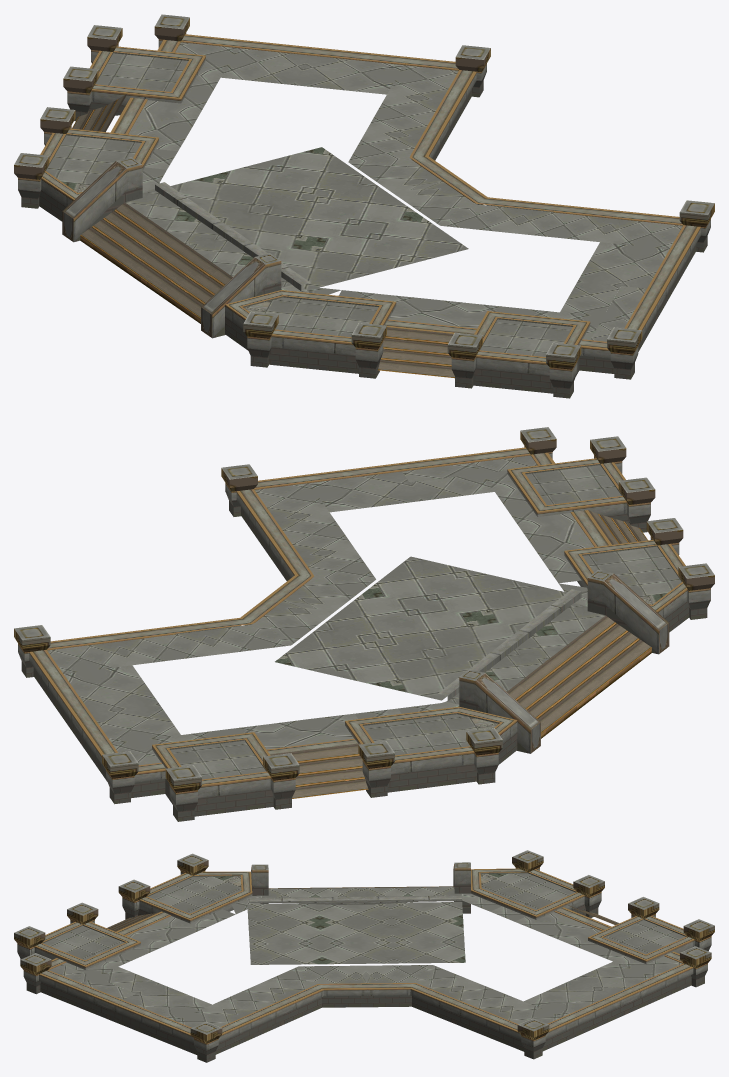
File: Yland1_jz_12 Yland1.FBX
3 renders of one model, top to bottom at view 1: azimuth 30°, elevation 25°; view 2: azimuth 150°, elevation 25°; view 3: azimuth 270°, elevation 25°, orthographic. The views are drawn at different scales.
Parts seen in each view (by area): view 1: Yland1_jz_12 Yland1; view 2: Yland1_jz_12 Yland1; view 3: Yland1_jz_12 Yland1.
Part boxes in pixels (x1,y1,x2,y2): Yland1_jz_12 Yland1: (14, 14, 714, 398); Yland1_jz_12 Yland1: (14, 427, 714, 821); Yland1_jz_12 Yland1: (14, 850, 714, 1062).
Bounding box in the file's own units: 18.3 × 2.13 × 29.79.
